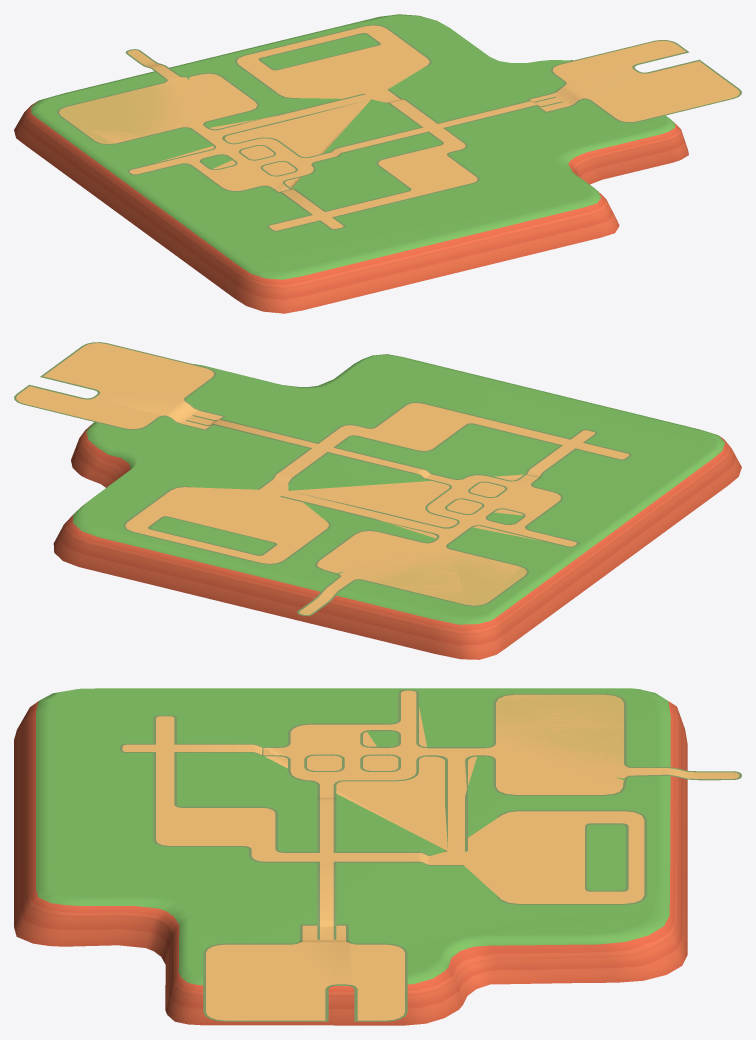
Rendered from Map Earth.fbx.
The picture shows the model from 3 angles, top to bottom: view 1: azimuth 30°, elevation 25°; view 2: azimuth 150°, elevation 25°; view 3: azimuth 270°, elevation 25°; orthographic projection. The views are drawn at different scales.
Parts seen in each view (by area): view 1: Plane, Plane.054, Plane.046, Plane.001; view 2: Plane, Plane.054, Plane.046, Plane.001; view 3: Plane, Plane.054, Plane.001, Plane.046.
Part boxes in pixels (<box>): Plane: <box>14,14,688,313</box>; Plane.054: <box>57,25,562,231</box>; Plane.046: <box>527,40,741,122</box>; Plane.001: <box>84,24,424,193</box>; Plane: <box>53,354,741,659</box>; Plane.054: <box>123,402,631,615</box>; Plane.046: <box>14,342,225,430</box>; Plane.001: <box>124,474,579,615</box>; Plane: <box>14,688,687,1025</box>; Plane.054: <box>120,689,741,939</box>; Plane.001: <box>261,690,741,904</box>; Plane.046: <box>203,924,407,1021</box>.
Bounding box in the file's own units: 24.58 × 1.45 × 21.6.
